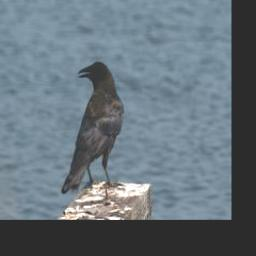Crow: (61, 61, 125, 196)
